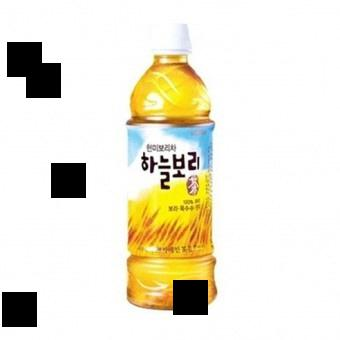haneulbori: (119, 22, 222, 315)
